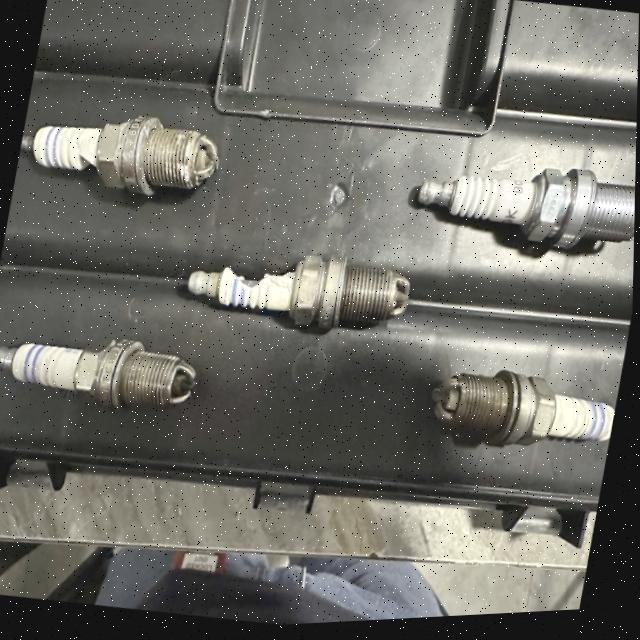damaged_spark-plug: (13, 91, 226, 230), (178, 237, 417, 344)
spark-plug: (403, 136, 637, 289), (419, 359, 622, 480), (0, 322, 204, 414)
